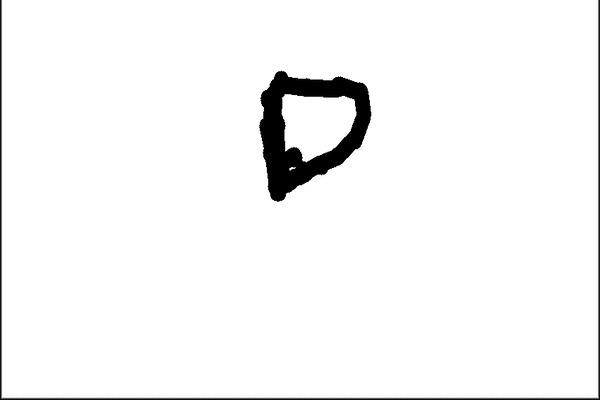D: (248, 61, 374, 202)
